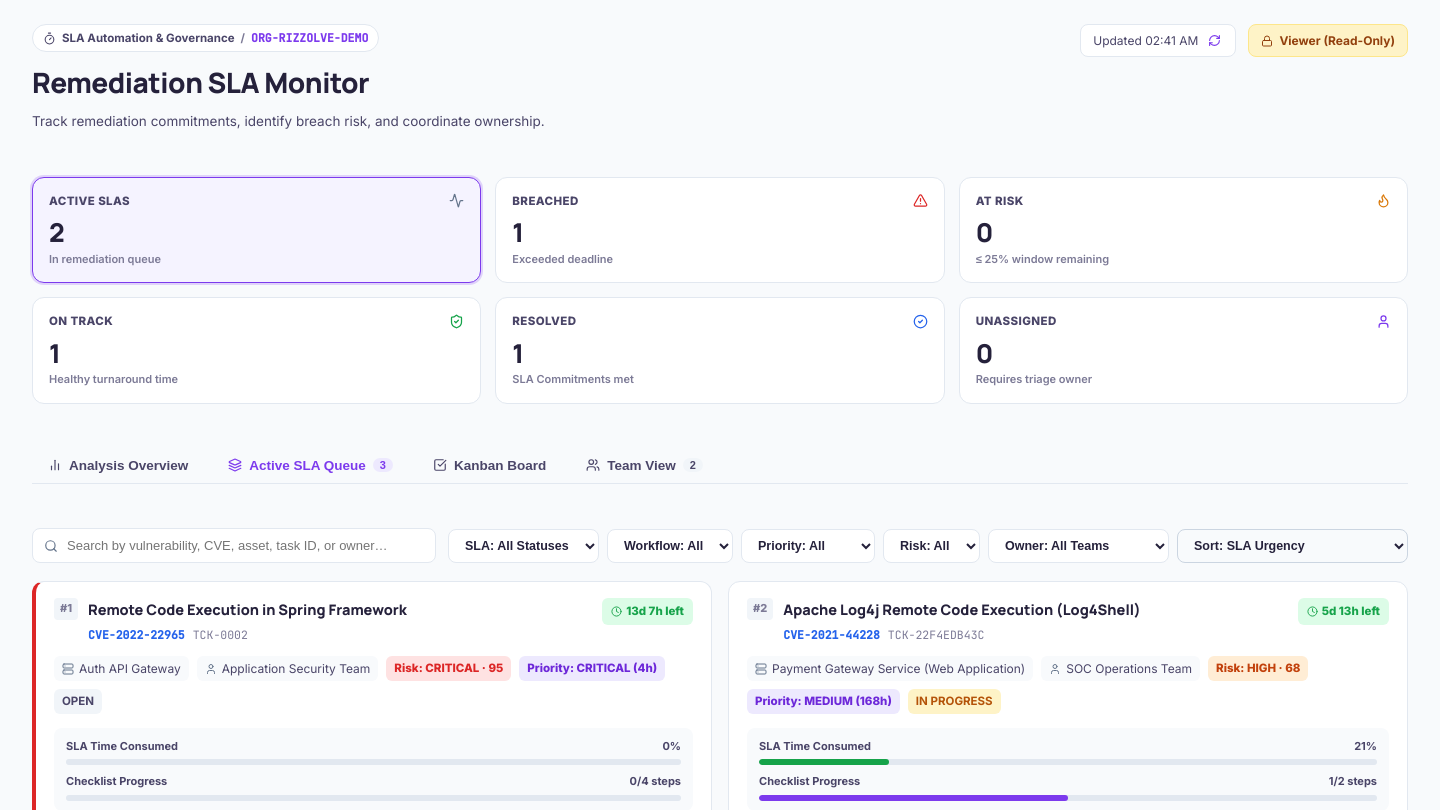
Scenario: Remediation SLA Monitor Component › 7. filters tasks by search query
The image size is (1440, 810).
Expected: the heading "Apache Log4j Remote Code Execution (Log4Shell)" is shown, [783,598,1141,622]
Type "Spring" into the field with placeholder "Search by vulnerability, CVE, asset, task ID, or owner…".
click(234, 546); type("Spring")  # box [32,528,436,563]
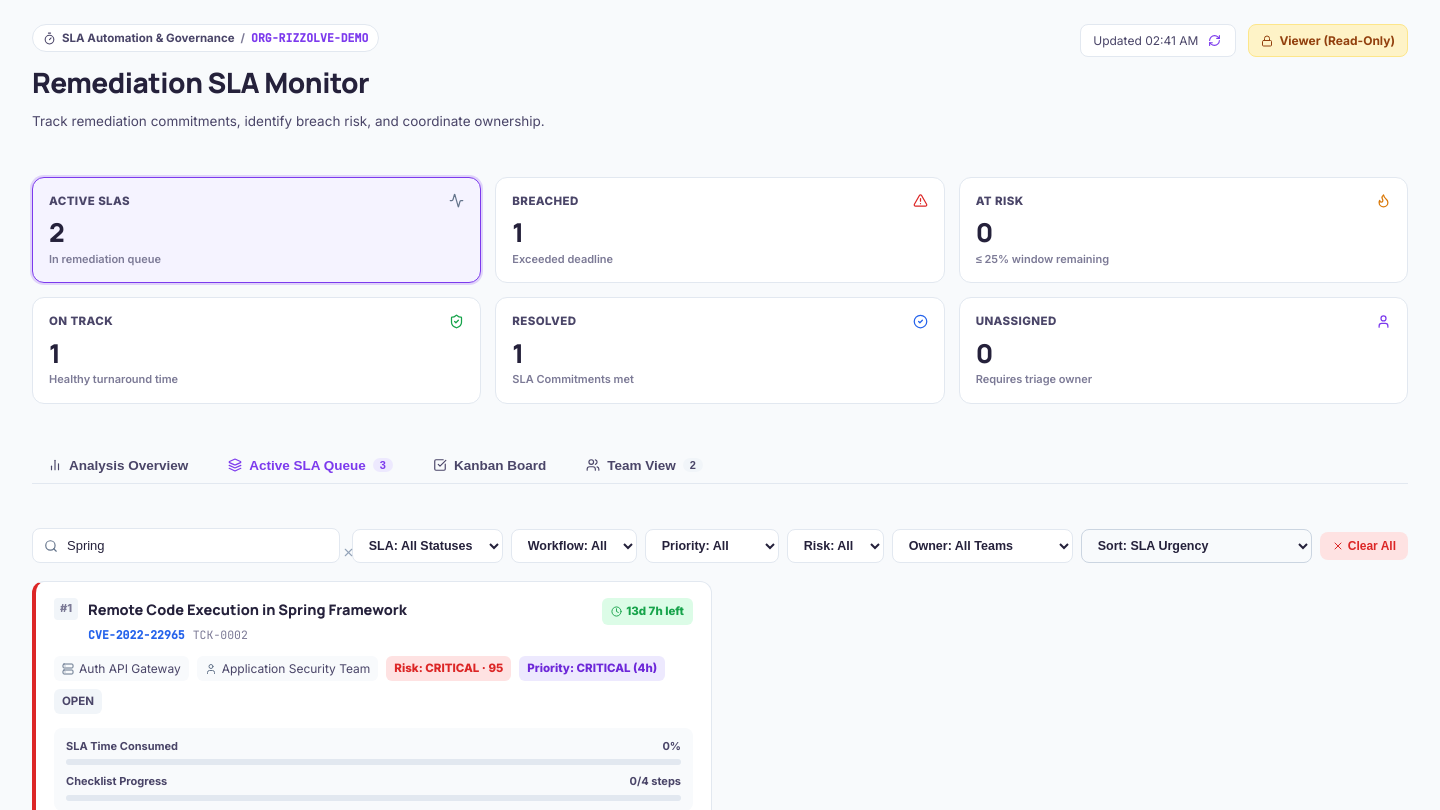
Expected: the heading "Remote Code Execution in Spring Framework" is shown, [88,598,407,622]
Expected: the button "Apache Log4j Remote Code Execution" is gone
